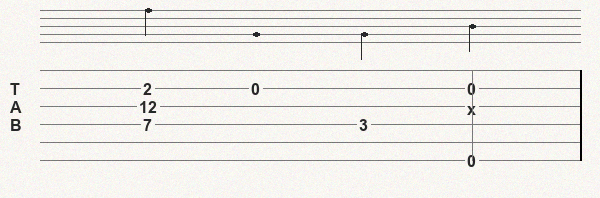0: (251, 80, 264, 96), (467, 80, 480, 96), (467, 152, 480, 168)
12: (139, 98, 161, 114)
2: (143, 80, 156, 96)
3: (359, 116, 372, 132)
7: (143, 116, 156, 132)
x: (467, 100, 480, 113)
